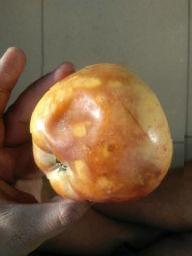Apple Rotten: (19, 65, 185, 203)
